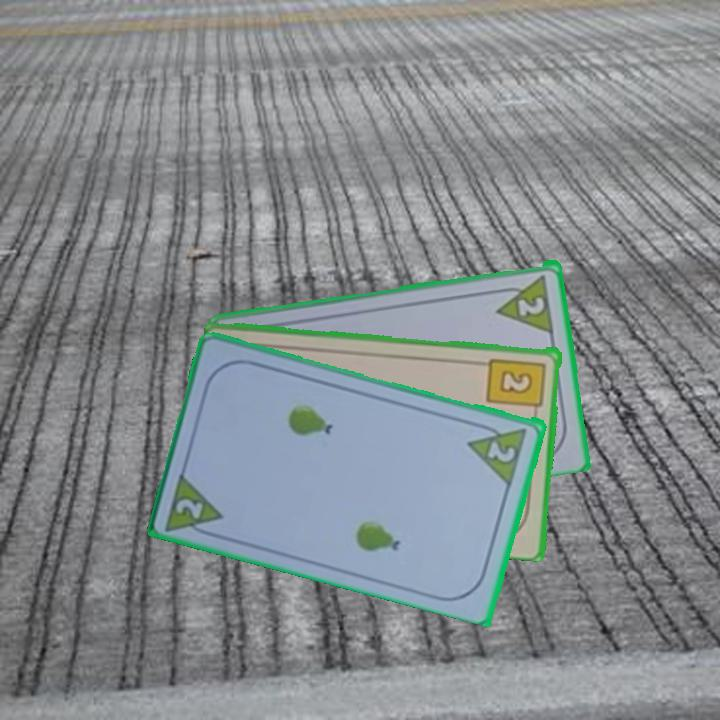2b: (484, 354, 549, 419)
2p: (465, 418, 531, 486), (172, 494, 207, 522), (515, 292, 548, 318)
